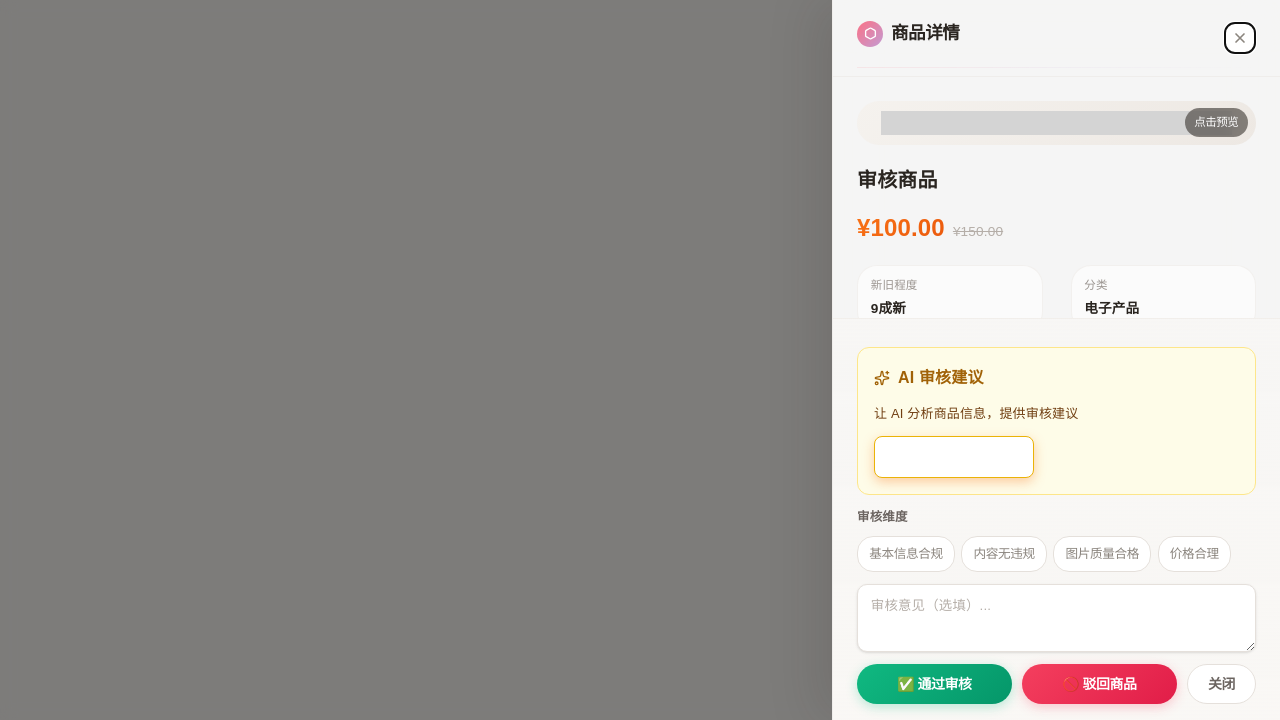
Test case: ProductDetailDrawer › opens reject confirmation modal when "驳回商品" is clicked
Click the button "🚫 驳回商品" at (1099, 684), box left=1022, top=664, right=1177, bottom=704
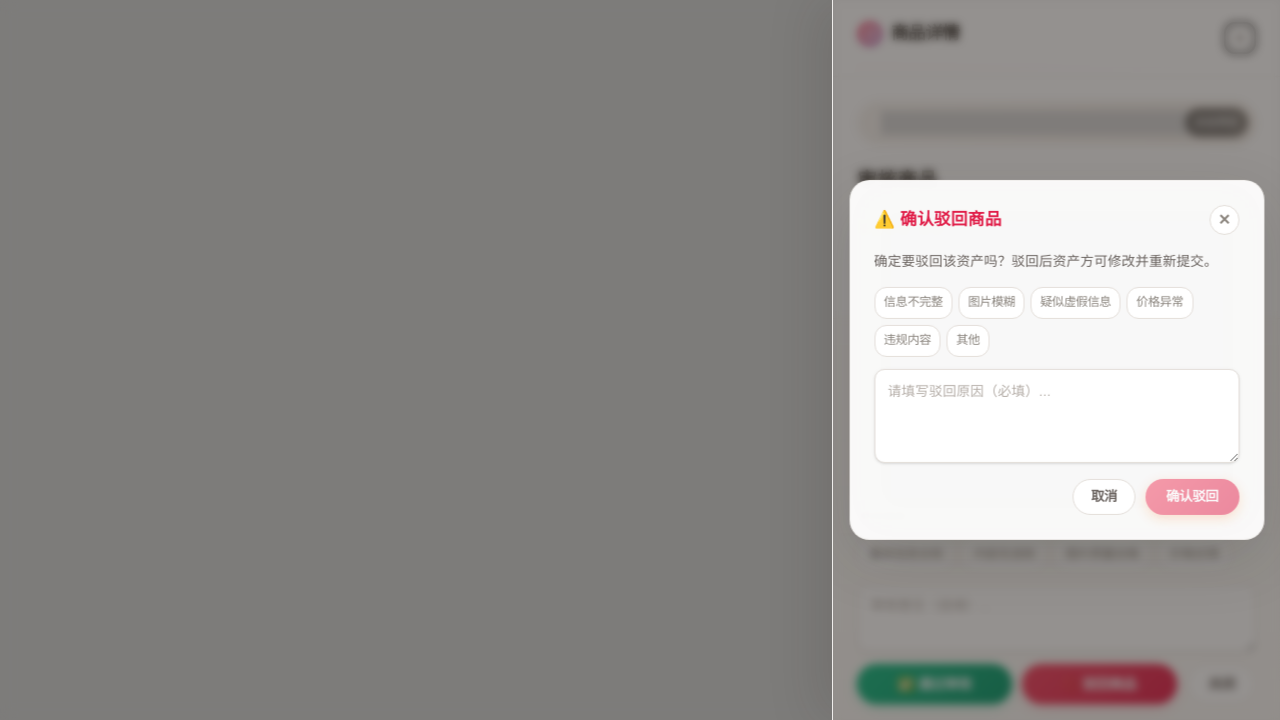
Expected: the button "确认驳回" is shown, left=1145, top=479, right=1239, bottom=515
